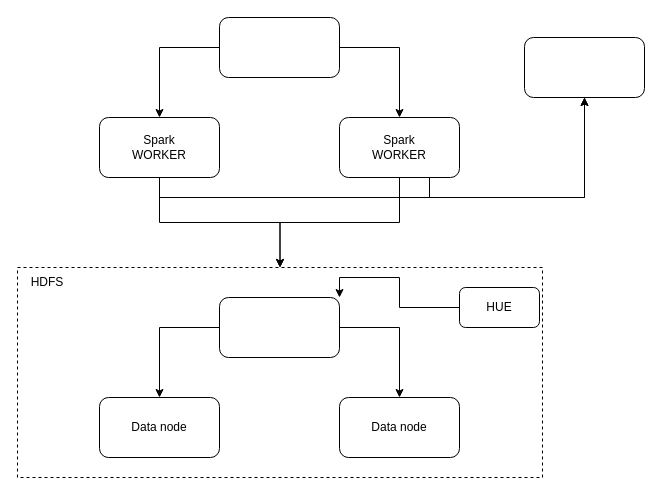
The diagram is 662 pixels wide and 495 high, and some of its shapes have lost their labels. Here are the shapes that lost their labels. From the top down, the box of each, then its label:
(218, 16, 340, 78): Spark MASTER
(524, 36, 644, 98): PostgreSQL
(218, 296, 340, 358): Namenode
